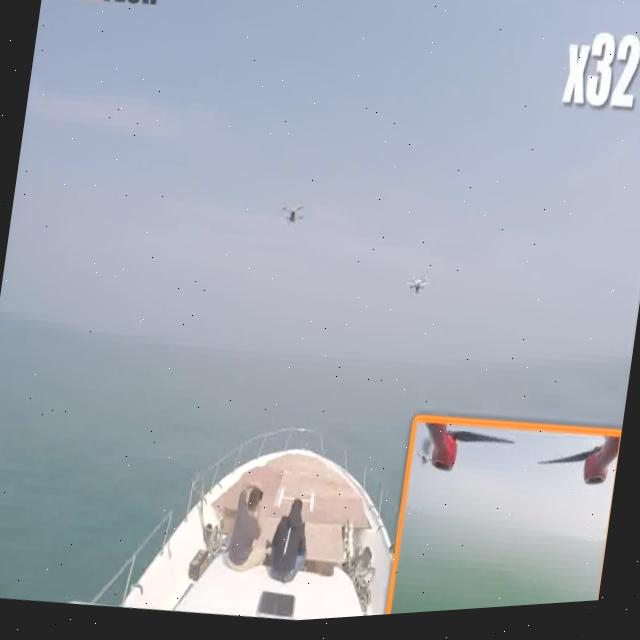drone: (403, 264, 436, 326), (277, 192, 312, 240)
